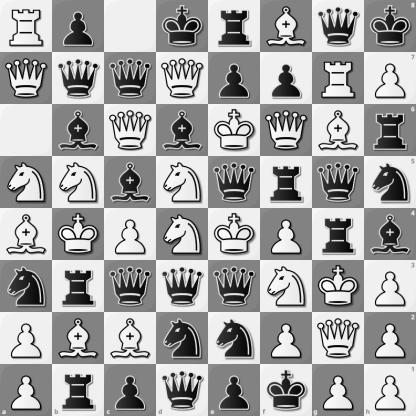B: (1, 209, 52, 260), (53, 313, 104, 364), (105, 313, 156, 364), (261, 1, 312, 52), (313, 105, 364, 156)
K: (53, 209, 104, 260), (209, 105, 260, 156), (209, 209, 260, 260), (313, 261, 364, 312)
N: (1, 157, 52, 208), (53, 157, 104, 208), (157, 157, 208, 208), (157, 209, 208, 260), (261, 261, 312, 312)
P: (0, 364, 52, 416), (312, 364, 364, 416), (364, 52, 416, 104), (364, 260, 416, 312), (364, 312, 416, 364), (364, 364, 416, 416), (1, 313, 52, 364), (105, 209, 156, 260), (261, 209, 312, 260), (261, 313, 312, 364)
Q: (1, 53, 52, 104), (105, 105, 156, 156), (157, 53, 208, 104), (261, 105, 312, 156), (313, 313, 364, 364)
R: (1, 1, 52, 52), (313, 53, 364, 104)
b: (364, 209, 416, 260), (53, 105, 104, 156), (105, 157, 156, 208), (157, 105, 208, 156)
board: (0, 0, 415, 415)
k: (260, 364, 312, 416), (364, 0, 416, 52), (157, 1, 208, 52)
n: (364, 156, 416, 209), (1, 261, 52, 312), (157, 313, 208, 364), (209, 313, 260, 364)
p: (104, 364, 156, 416), (209, 364, 260, 416), (53, 1, 104, 52), (209, 53, 260, 104), (261, 53, 312, 104)
q: (156, 364, 209, 416), (53, 53, 104, 104), (105, 53, 156, 104), (105, 261, 156, 312), (157, 261, 208, 312), (209, 157, 260, 208), (209, 261, 260, 312), (313, 1, 364, 52), (313, 157, 364, 208)
r: (52, 364, 104, 416), (364, 104, 416, 156), (53, 261, 104, 312), (209, 1, 260, 52), (261, 157, 312, 208), (313, 209, 364, 260)
